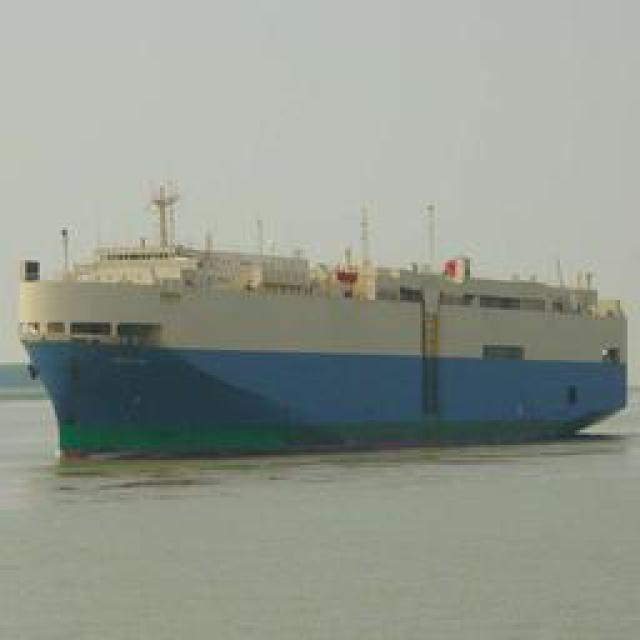Ship: (18, 225, 633, 443)
